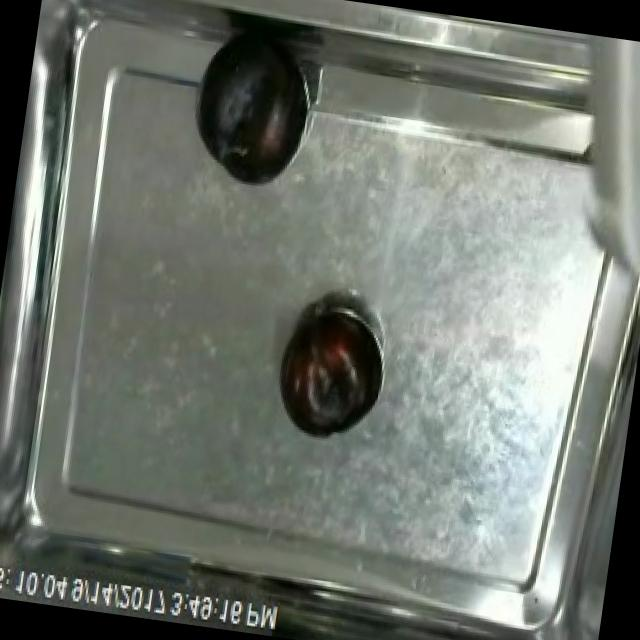Fruit: (180, 33, 322, 200), (268, 298, 388, 450)
